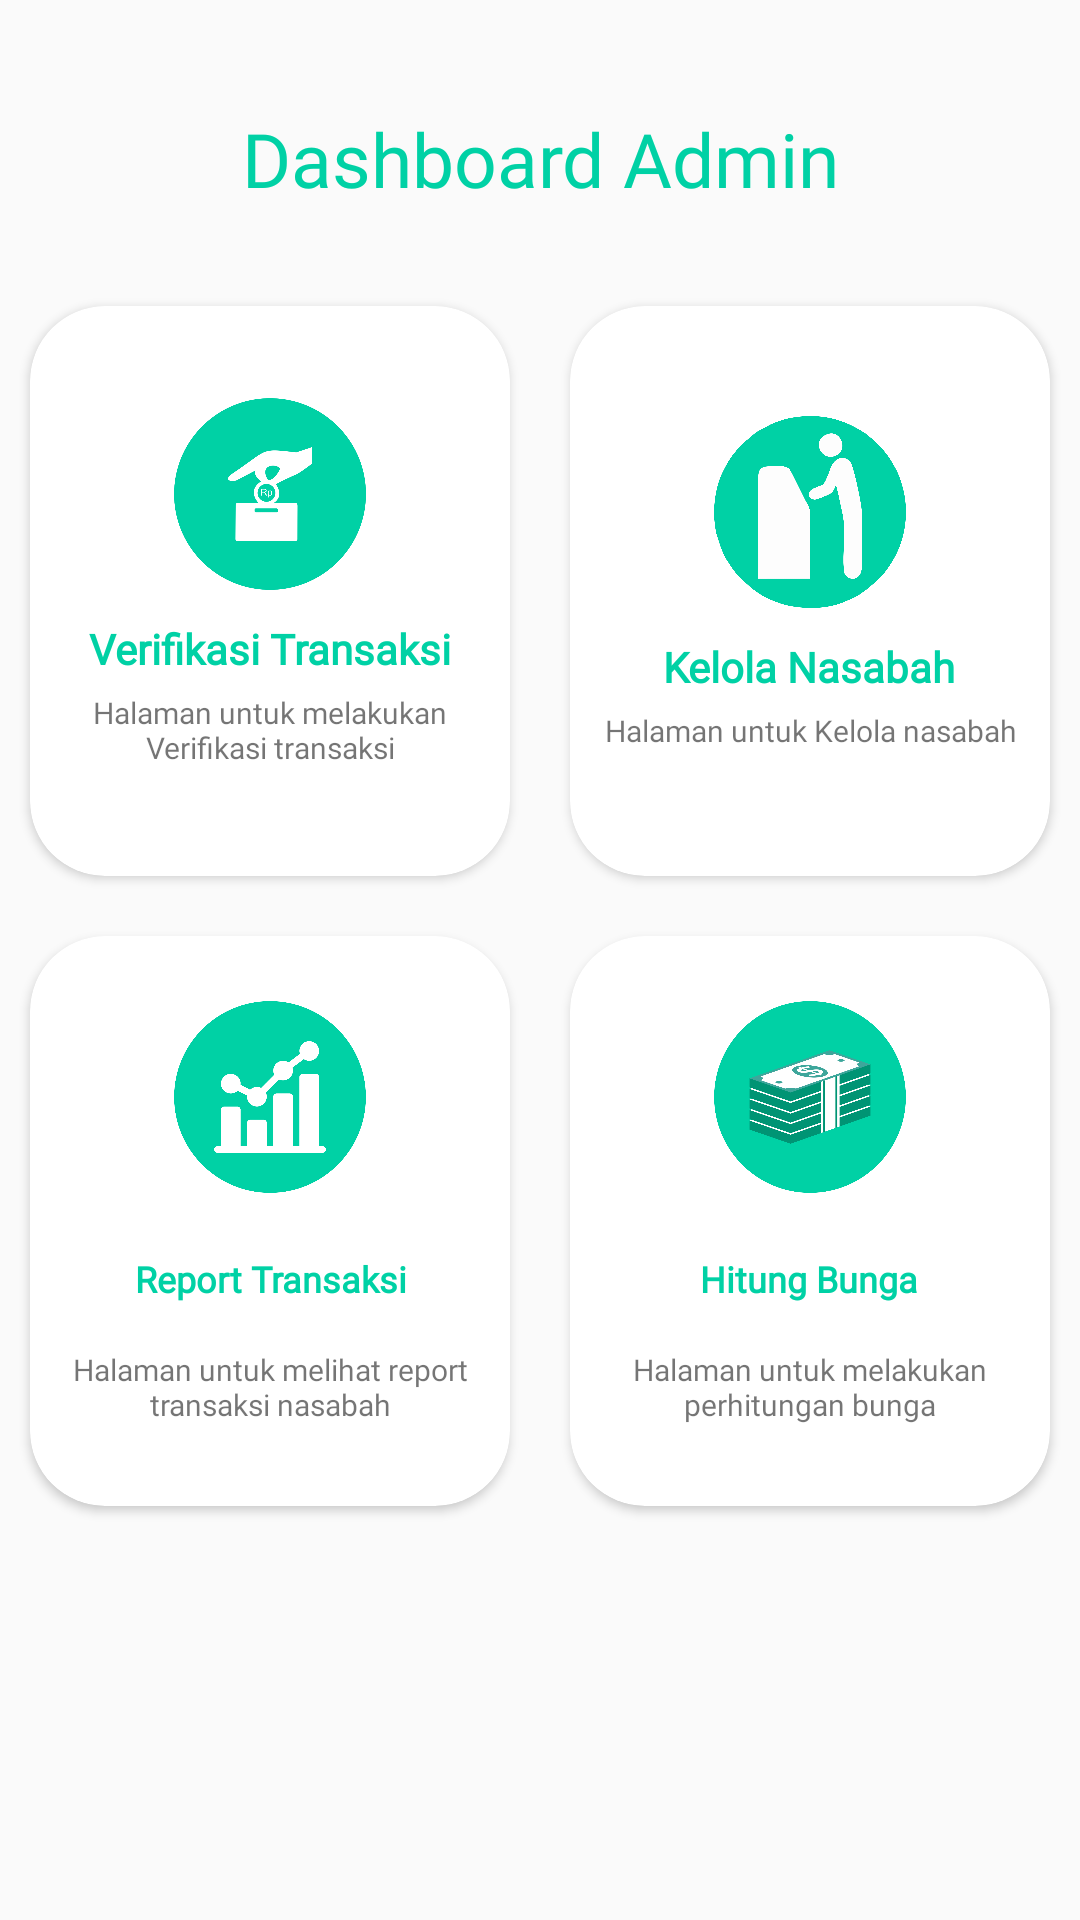

Named icons in this screenshot (1080 × 1920) and their bounding boxes, [left=x1, top=y1, right=x2, bottom=y2]:
nabung: [left=174, top=398, right=366, bottom=590]
pinjaman: [left=714, top=1001, right=906, bottom=1193]
tarik: [left=714, top=416, right=906, bottom=608]
